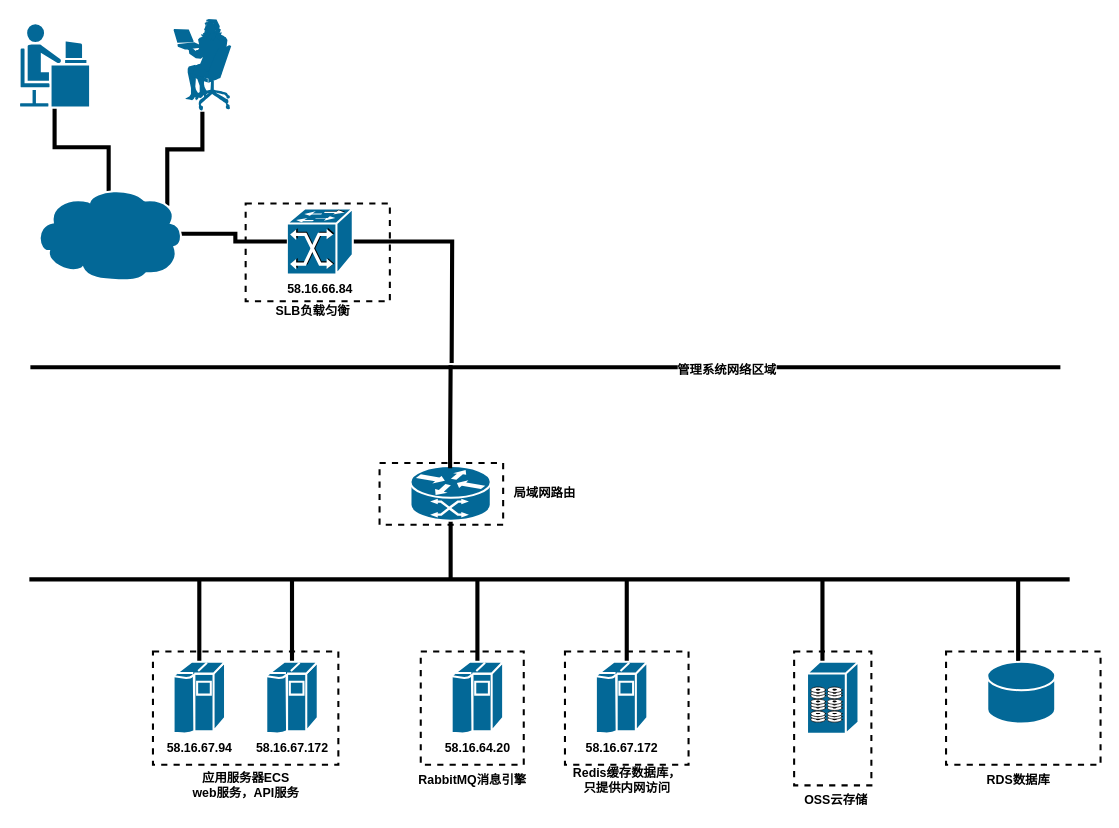
Image size: 1119x828. Some labels were removed from this diagram. The shapes that lost their labels are listed below. From the top down, each one's centre as x and y in pixels, then its label:
point 108,233: 互联网
point 832,697: oss-cn-shenzhen .aliyuncs.com
point 1021,692: rm-go6xu54xbbla9m6iv. mysql.rds.aliyuncs.com
